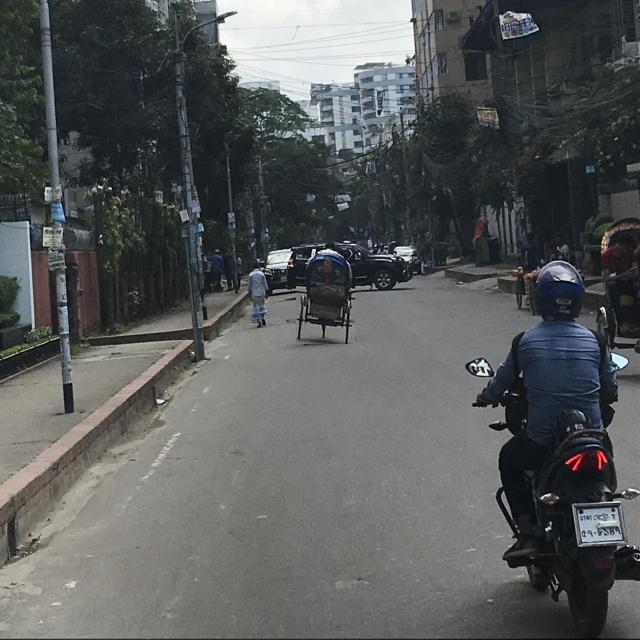Rickshaw: (296, 248, 355, 344)
numberplate: (571, 500, 627, 548)
